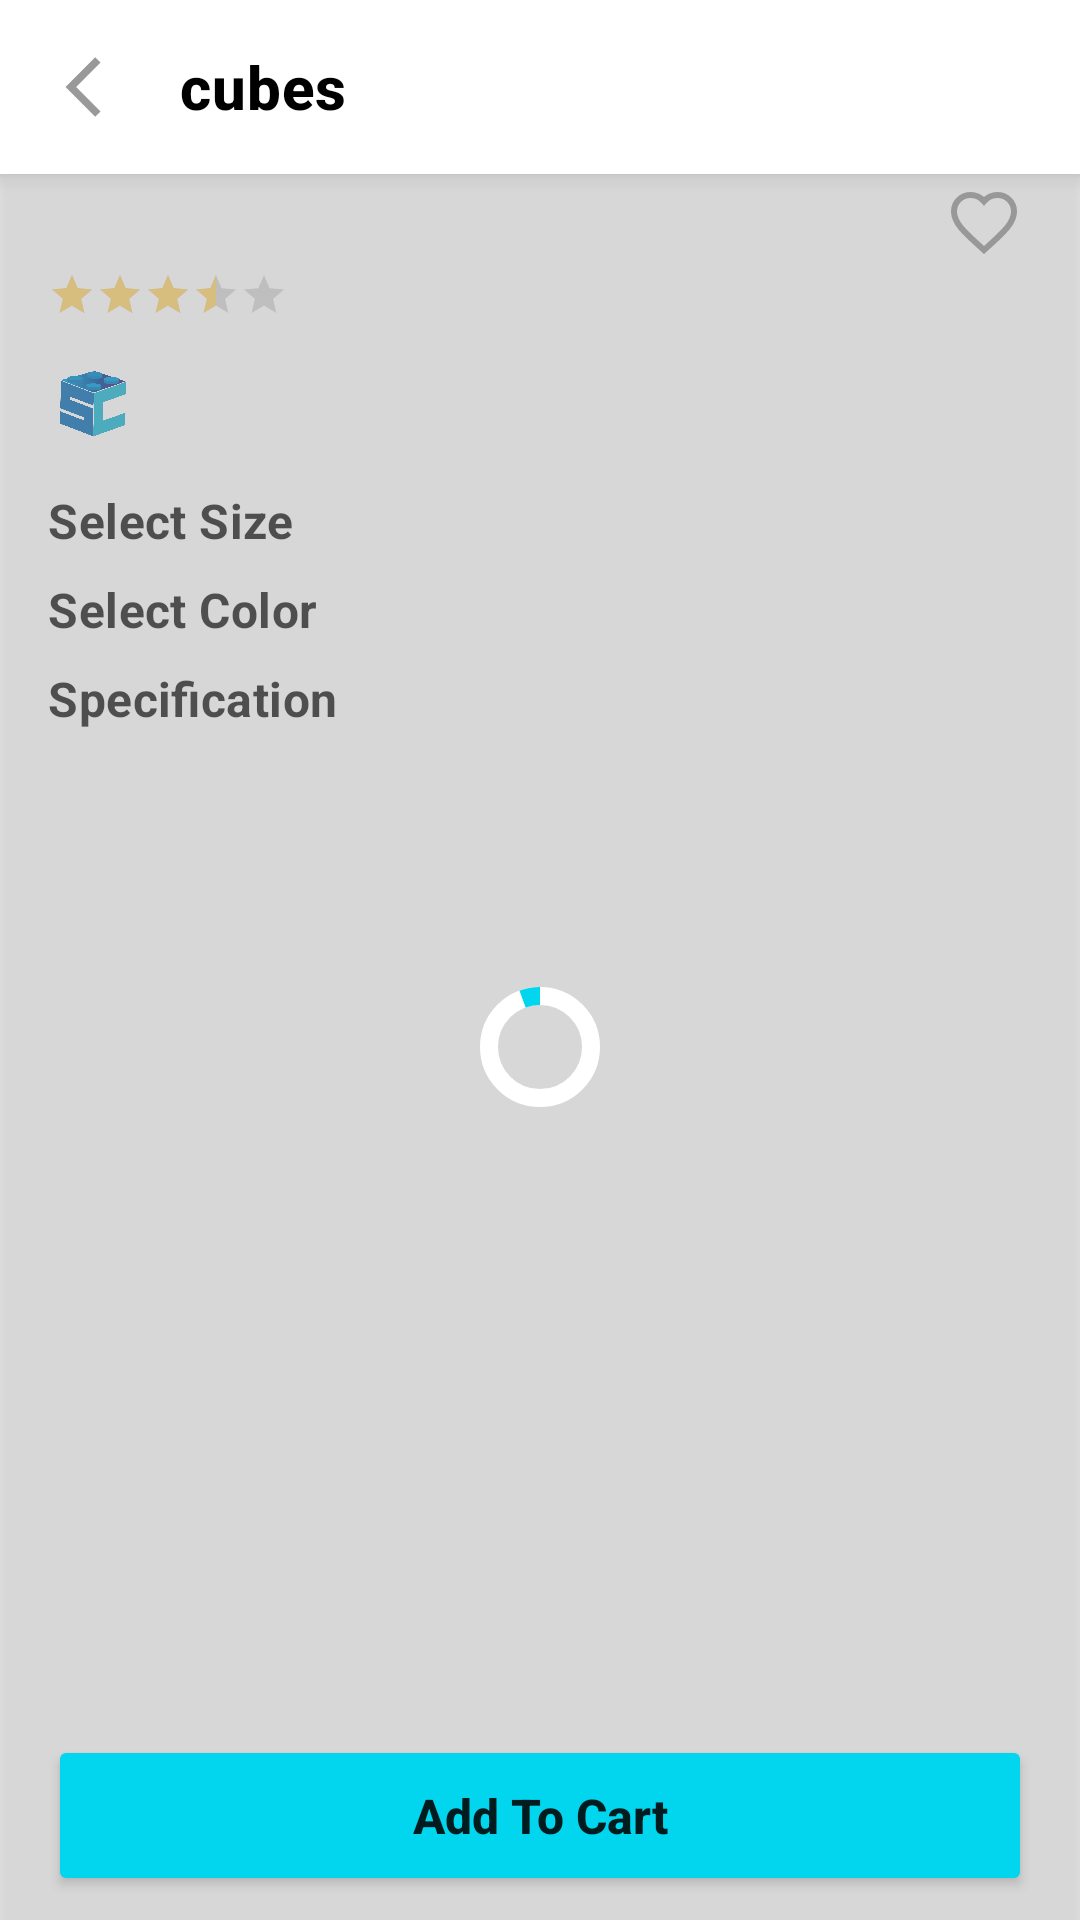

Screen size 1080×1920. Icon name, then its box in pixels as (x1, y1, x2, y2):
Like Button: (951, 192, 1017, 254)
